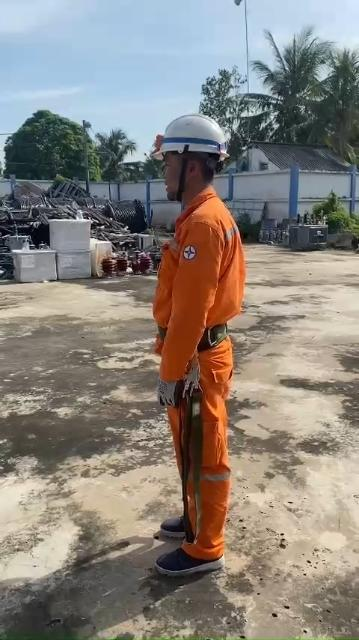gloves: (155, 371, 185, 413), (158, 379, 179, 406)
harness: (142, 317, 245, 356), (198, 324, 228, 351)
helmet: (144, 112, 235, 163), (153, 114, 229, 160)
shoes: (147, 546, 236, 580), (152, 507, 233, 540), (155, 547, 225, 576)
